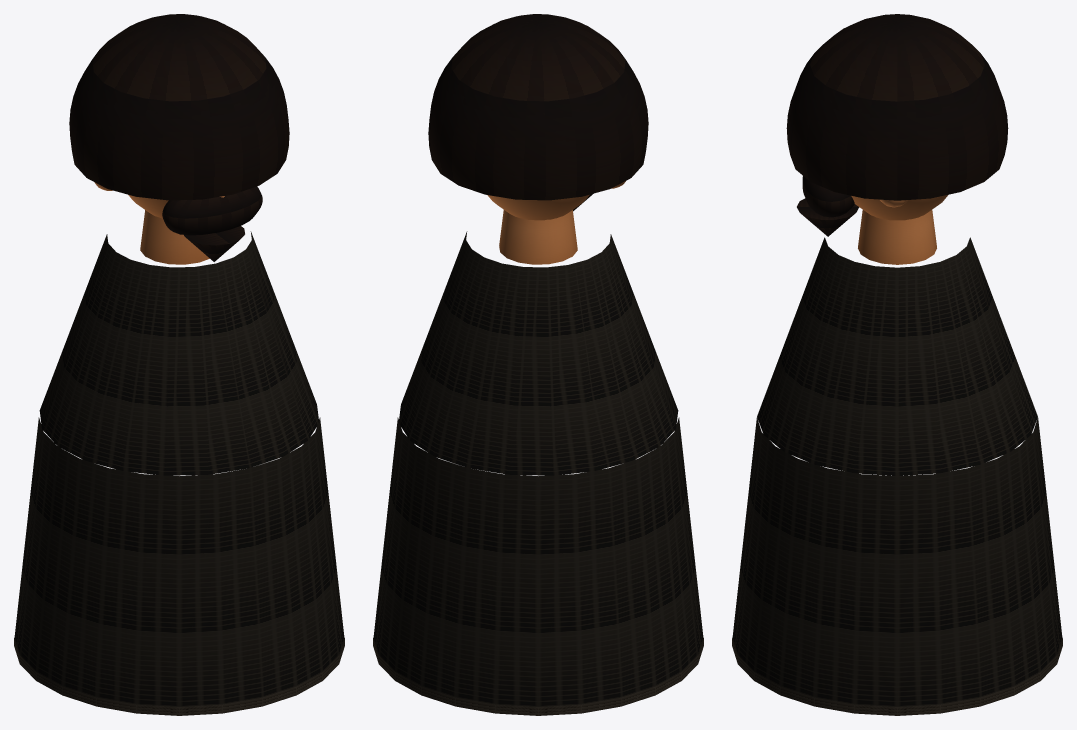
The model's file is thomas.glb.
The picture shows the model from 3 angles, left to right: view 1: azimuth 30°, elevation 25°; view 2: azimuth 150°, elevation 25°; view 3: azimuth 270°, elevation 25°; orthographic projection.
Parts seen in each view (by area): view 1: Character_thomas_the_twin; view 2: Character_thomas_the_twin, head; view 3: Character_thomas_the_twin, head.
Boxes of the visible parts, left/top/right/bottom form: Character_thomas_the_twin: left=14, top=14, right=344, bottom=715; Character_thomas_the_twin: left=373, top=14, right=703, bottom=715; head: left=487, top=194, right=589, bottom=220; Character_thomas_the_twin: left=732, top=14, right=1062, bottom=715; head: left=851, top=194, right=948, bottom=220.
Bounding box in the file's own units: 0.8671 × 1.8 × 0.8671.
8 materials, 4 textured.
